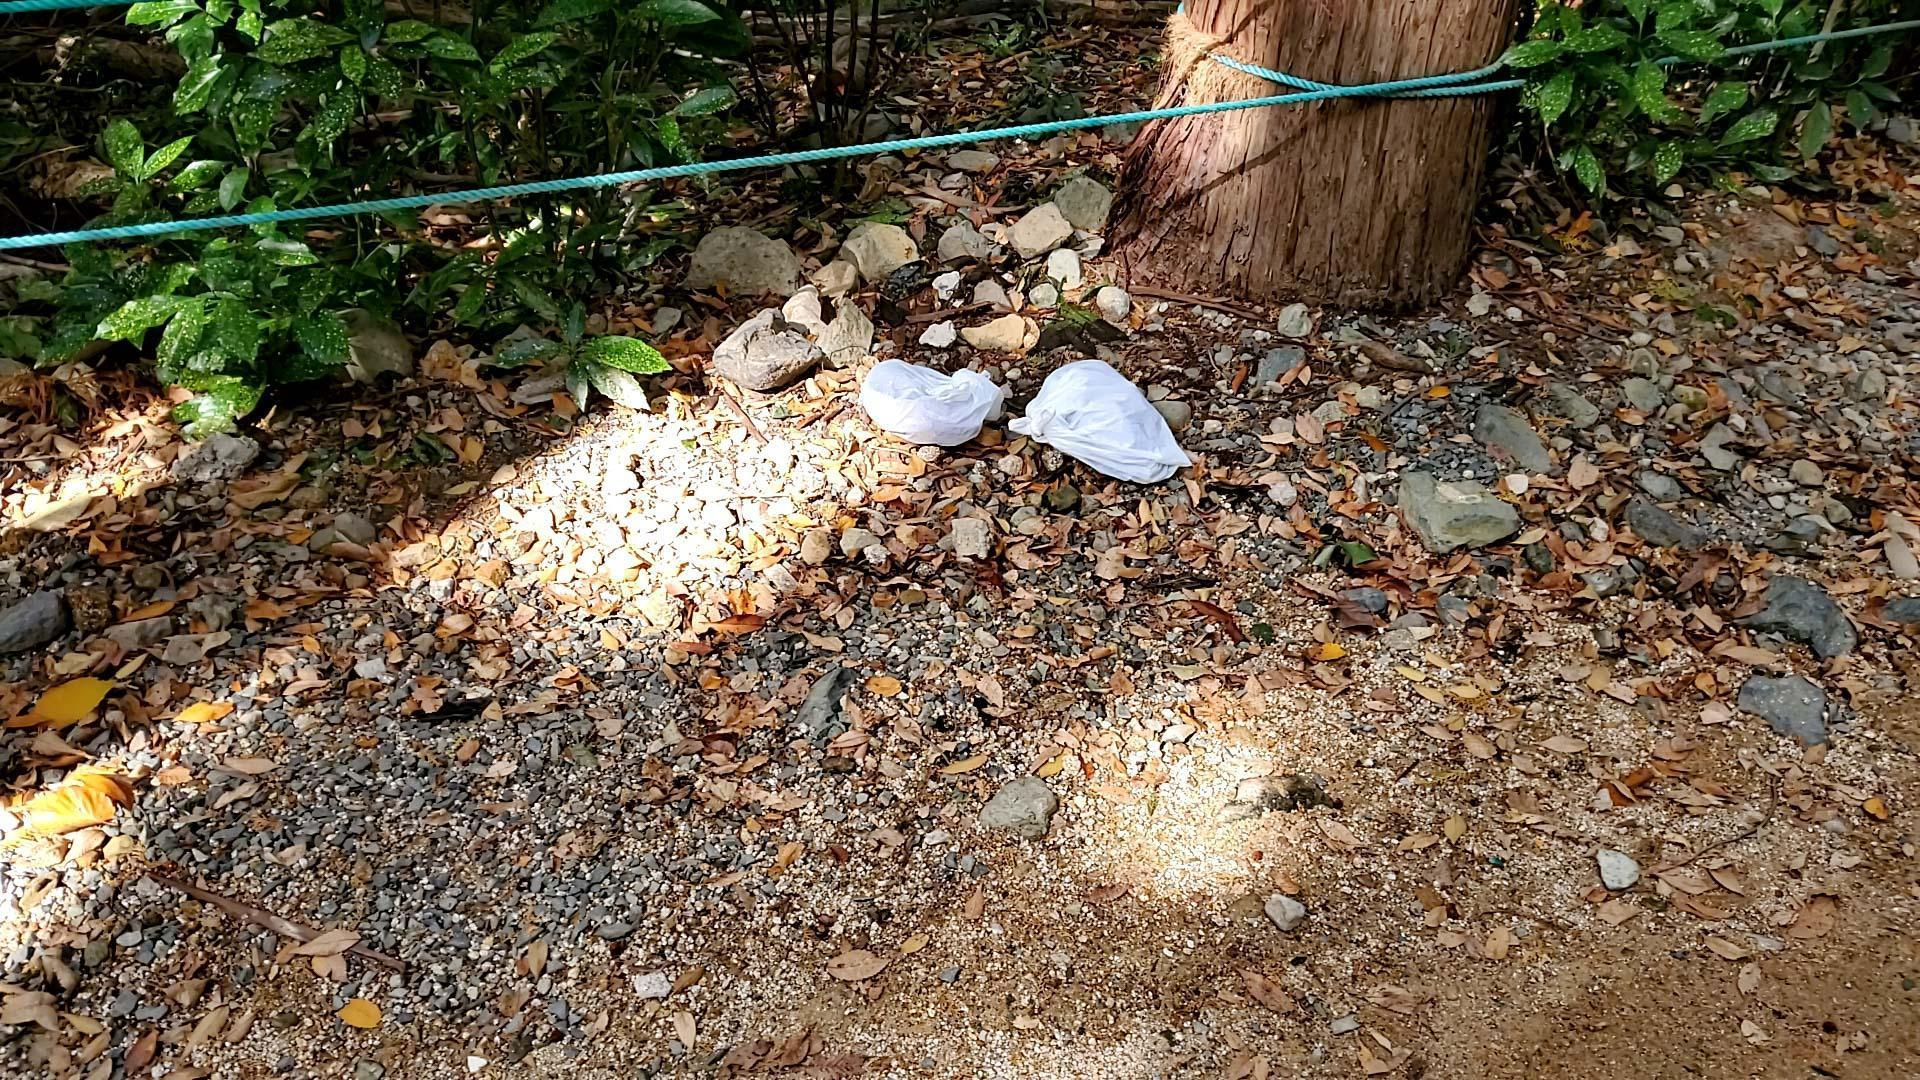white_bag: (996, 353, 1203, 501), (843, 348, 1009, 462)
